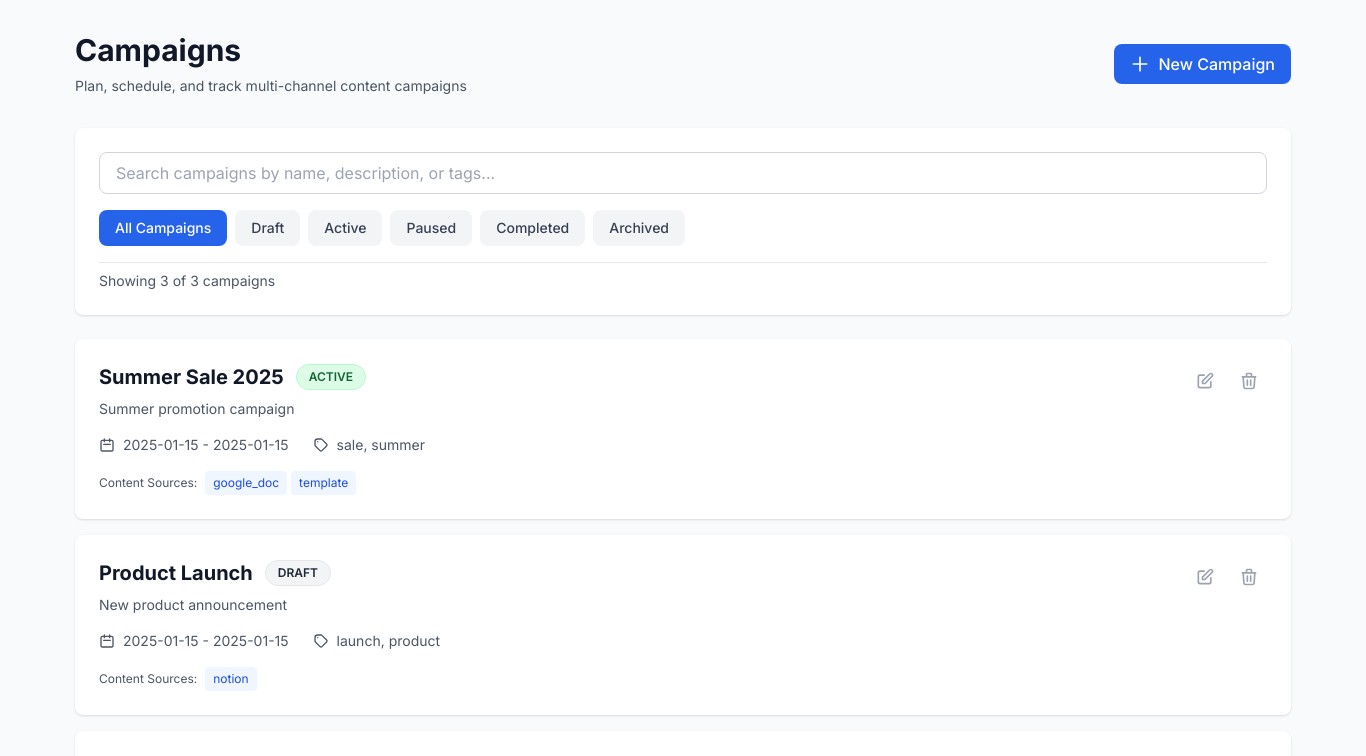
Test case: CampaignsPage › Status Filtering › should filter by draft status
The image size is (1366, 756).
Click the button "Draft": [268, 228] box [235, 210, 300, 246]
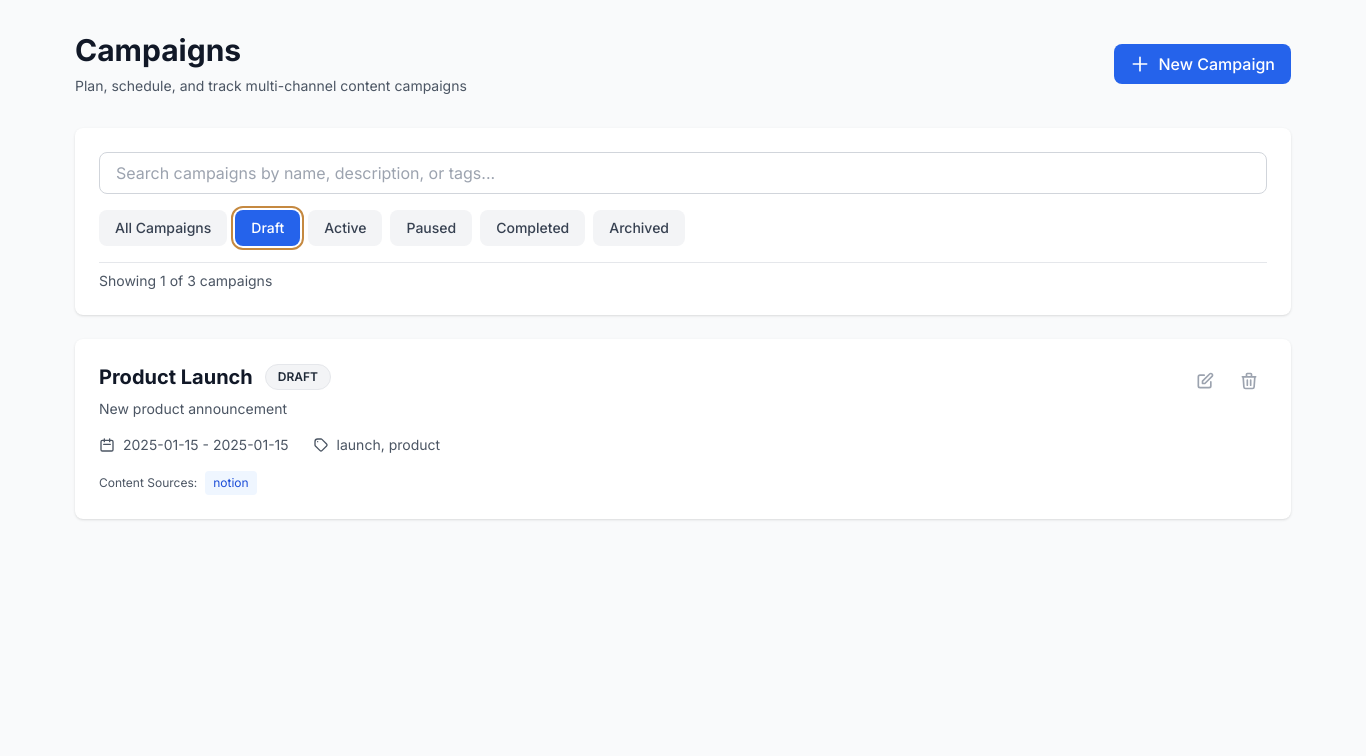
Check: the heading "Product Launch" is shown, box [99, 363, 253, 391]
Check: the heading "Summer Sale 2025" is gone
